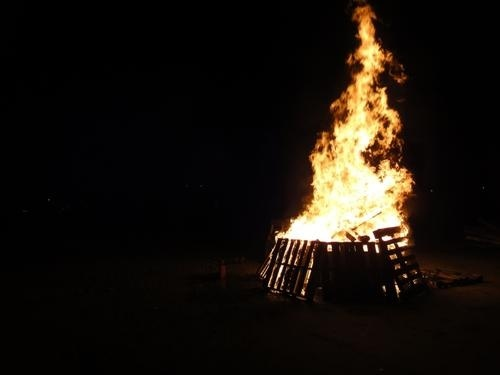fire: (280, 5, 417, 255)
